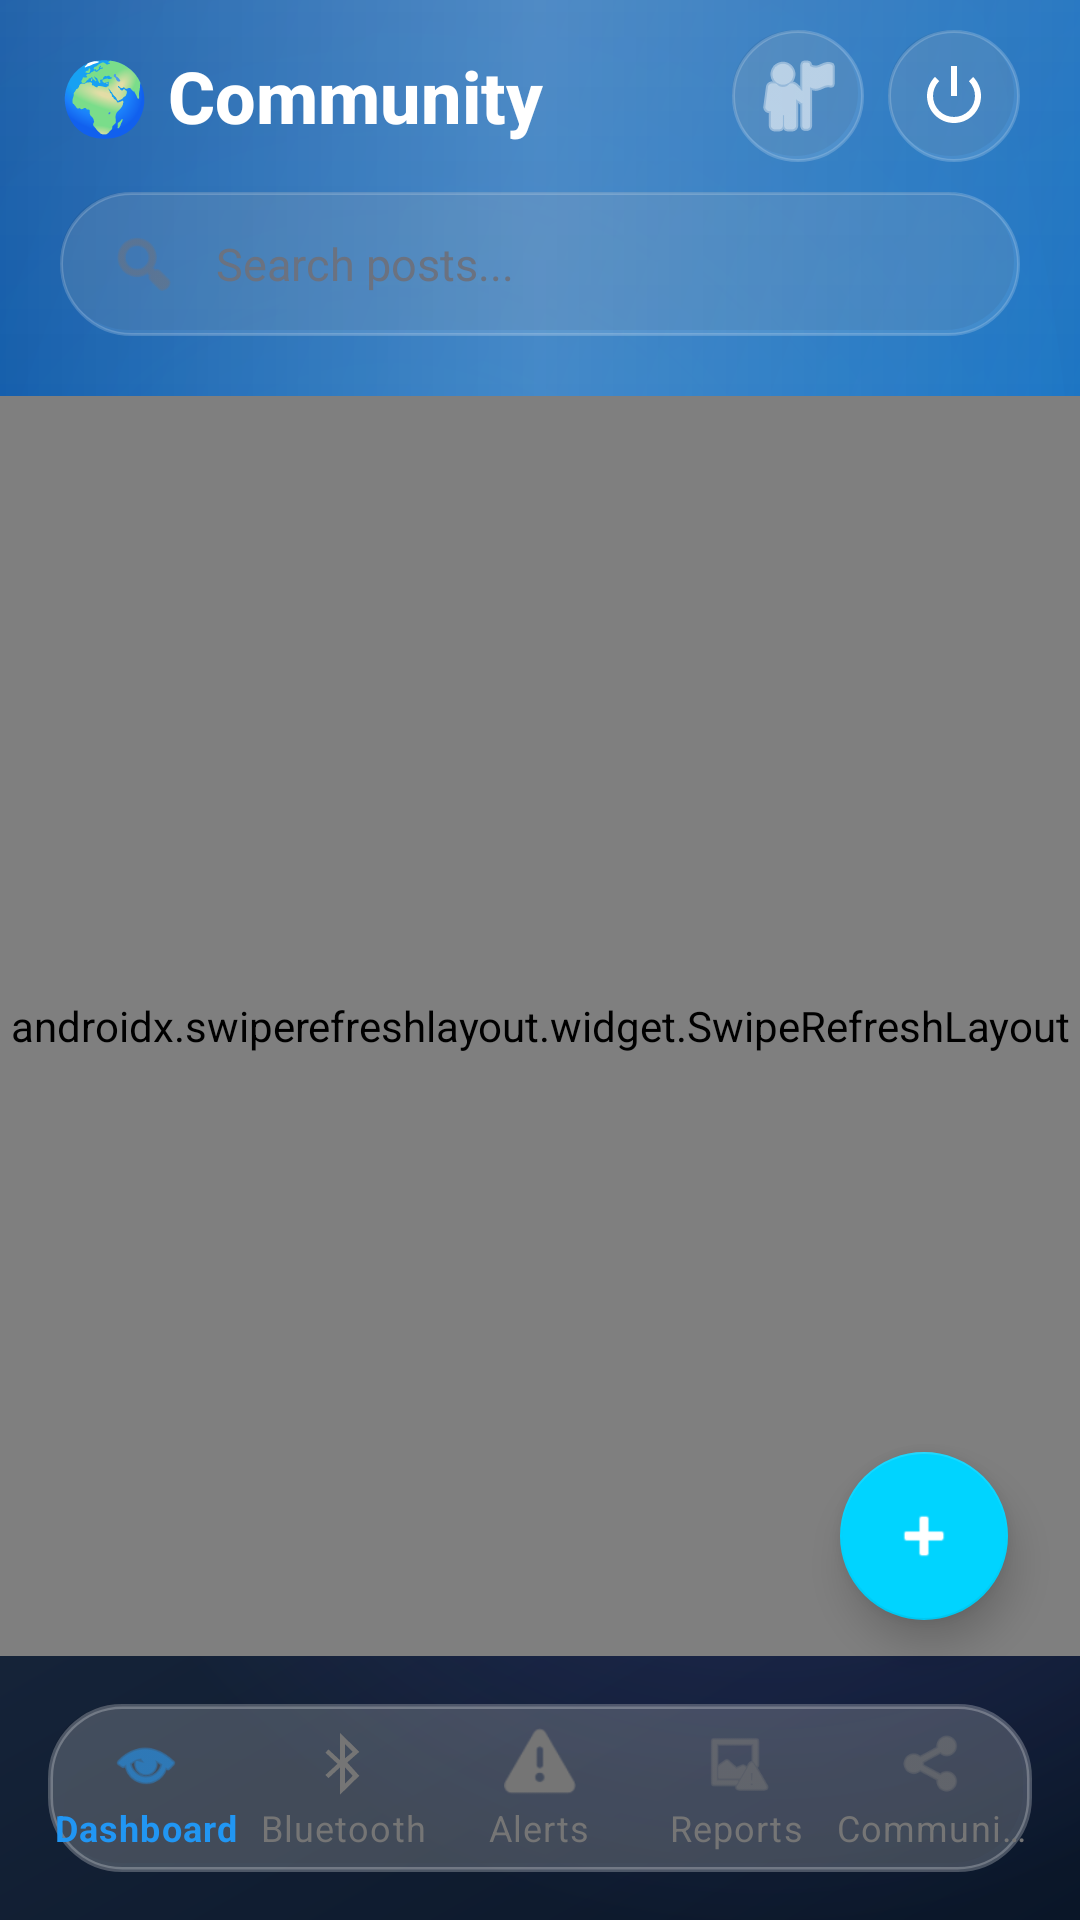

Screen size 1080×1920. Icon name, then its box in pixels as (x1, y1, x2, y2):
New Post: (840, 1452, 1008, 1620)
